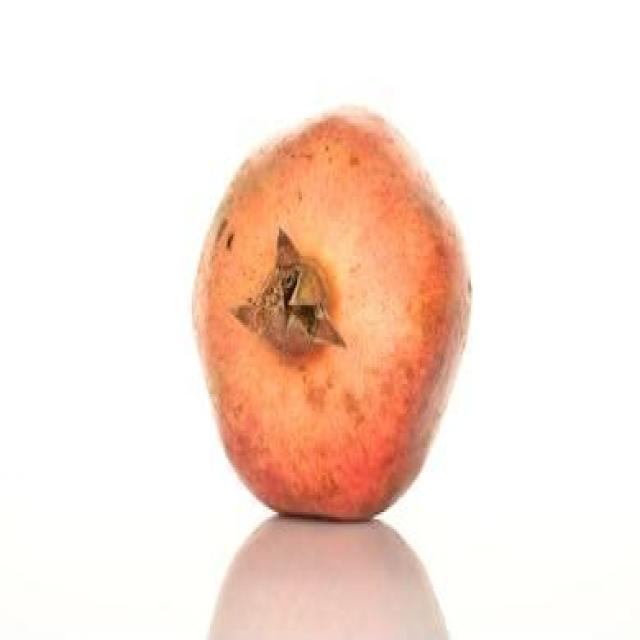Pomegranate: (191, 102, 476, 525)
